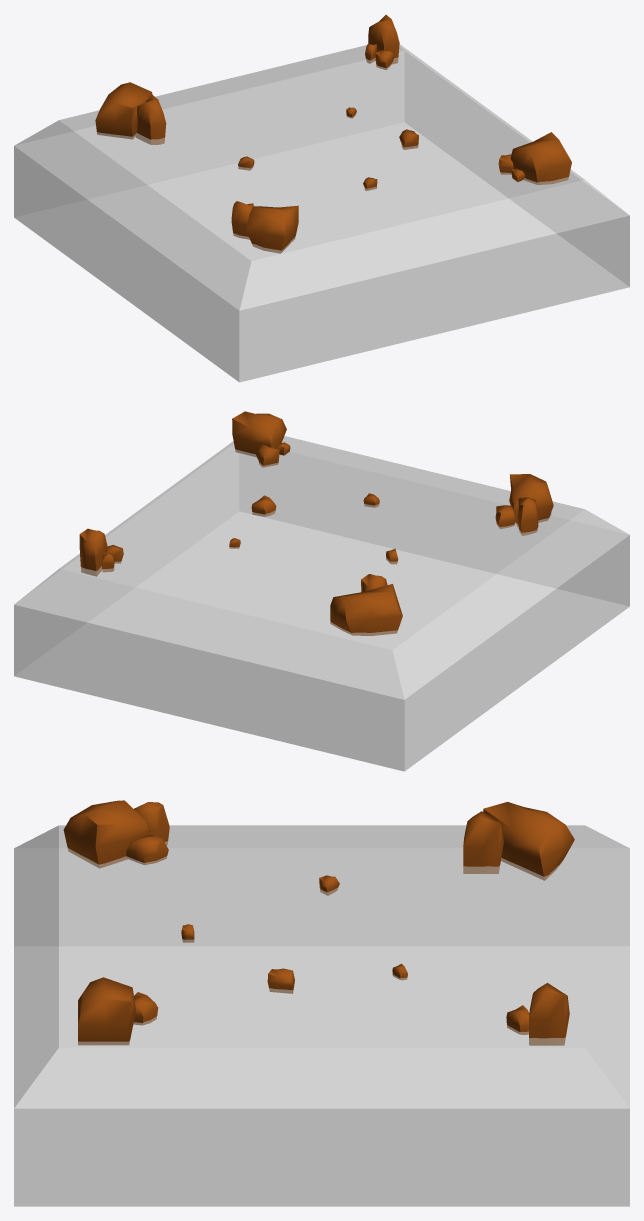
The model's file is Tile_Dirt.fbx.
3 views of the same model, one above another, from view 1: azimuth 30°, elevation 25°; view 2: azimuth 150°, elevation 25°; view 3: azimuth 270°, elevation 25° (orthographic). The views are drawn at different scales.
Visible parts, largest first — view 1: Tile_Dirt; view 2: Tile_Dirt; view 3: Tile_Dirt.
Boxes of the visible parts, x1,y1,x2,y2 form: Tile_Dirt: [14, 15, 629, 382]; Tile_Dirt: [14, 411, 629, 771]; Tile_Dirt: [14, 800, 629, 1206].
Size of the model in its own units: 2 by 0.6658 by 2.
